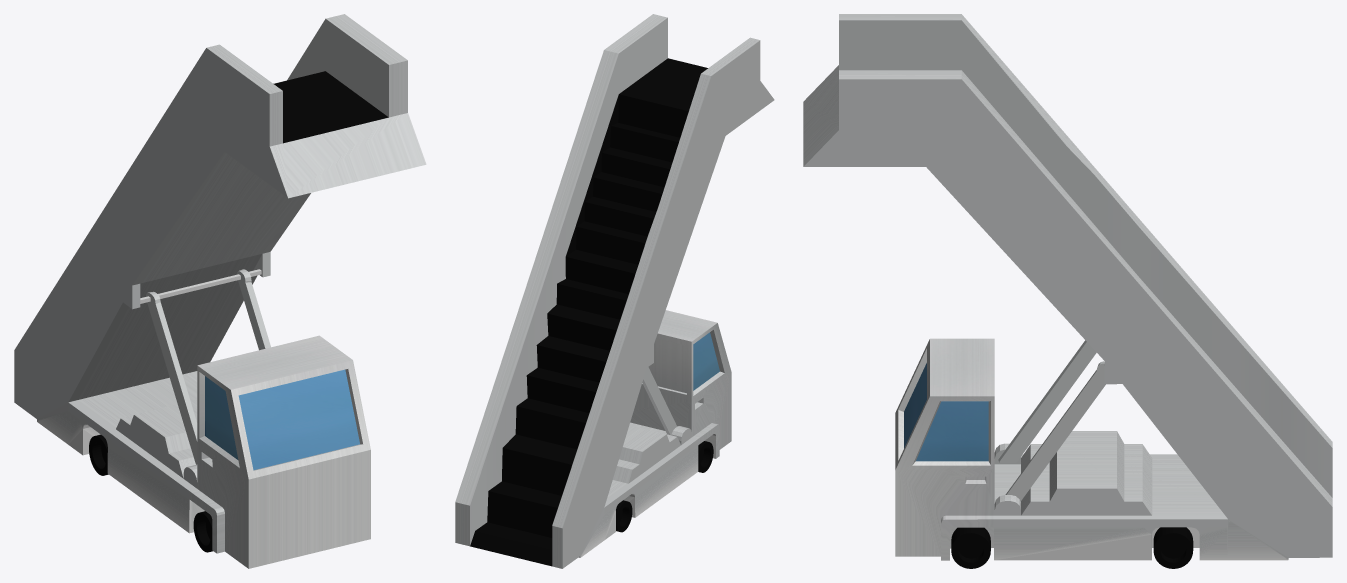
File: Passenger boarding stairs.fbx
The picture shows the model from 3 angles, left to right: view 1: azimuth 30°, elevation 25°; view 2: azimuth 150°, elevation 25°; view 3: azimuth 270°, elevation 25°; orthographic projection. The views are drawn at different scales.
Parts seen in each view (by area): view 1: Cube, Cylinder.001, Cylinder.003; view 2: Cube, Cylinder.003, Cylinder.001; view 3: Cube, Cylinder.002, Cylinder.
Boxes of the visible parts, x1,y1,x2,y2 form: Cube: [14, 14, 426, 568]; Cylinder.001: [193, 511, 212, 552]; Cylinder.003: [89, 434, 108, 475]; Cube: [455, 14, 774, 568]; Cylinder.003: [616, 500, 632, 532]; Cylinder.001: [698, 441, 713, 472]; Cube: [803, 14, 1332, 560]; Cylinder.002: [1153, 527, 1193, 568]; Cylinder: [951, 527, 990, 568].
Size of the model in its own units: 438 by 1533 by 1499.
